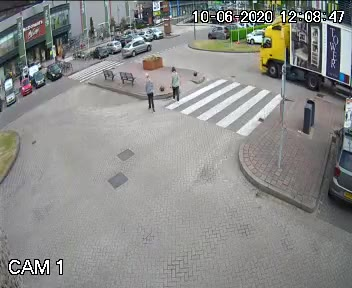car: (248, 6, 352, 95), (120, 35, 159, 59)
